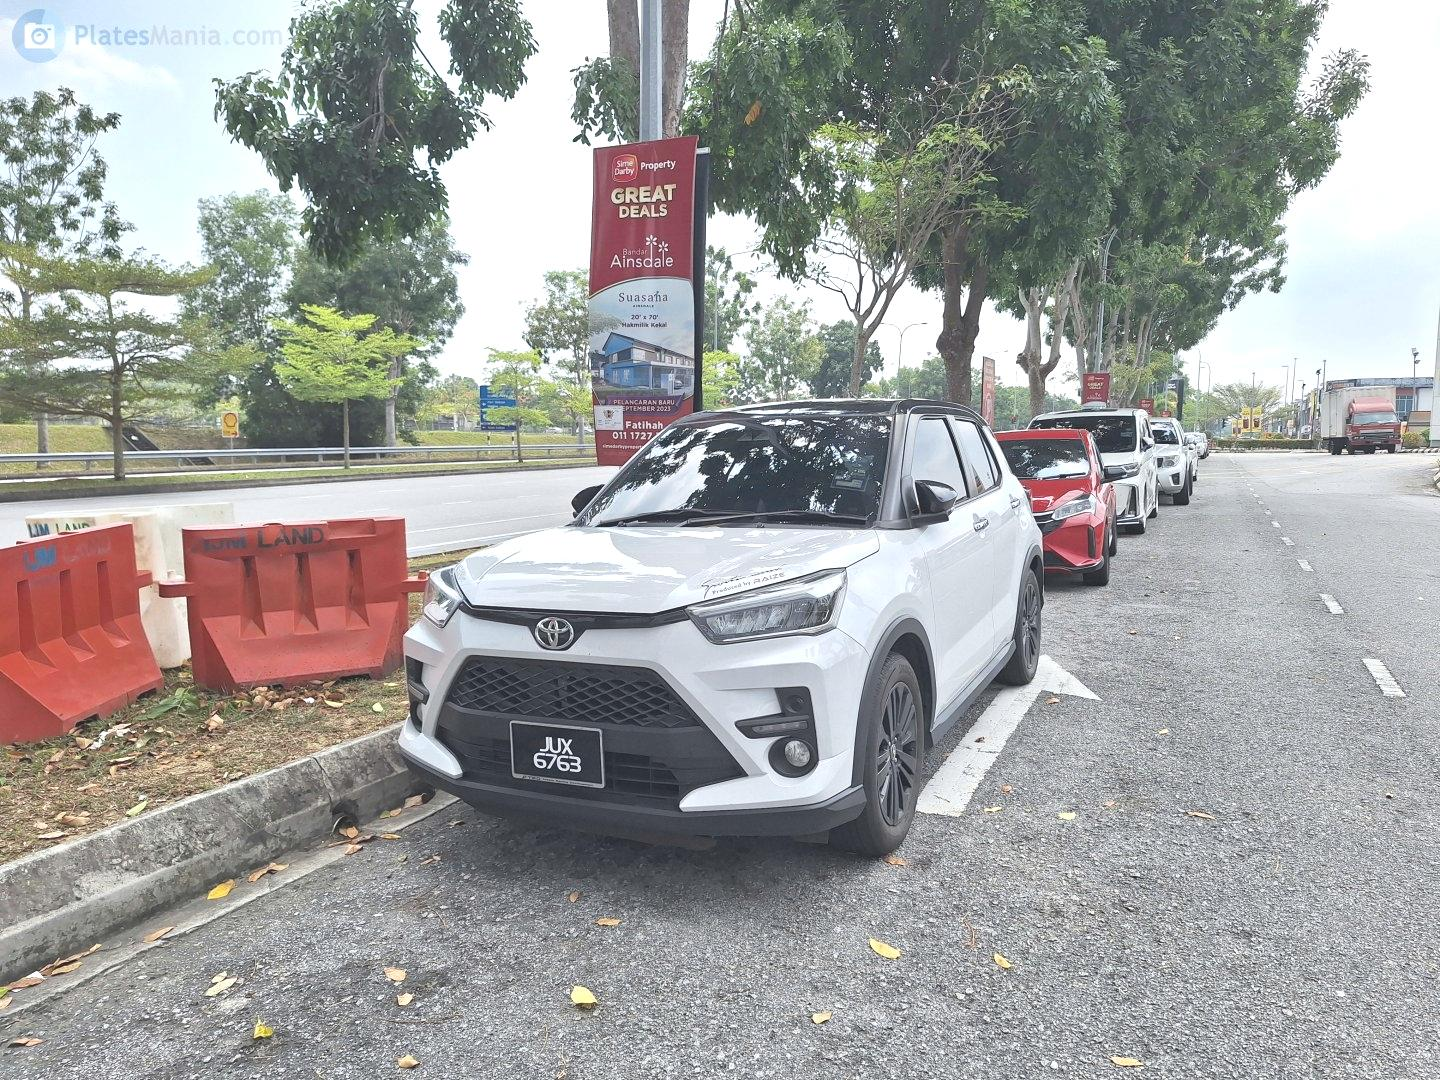License Plate: (514, 721, 606, 785)
